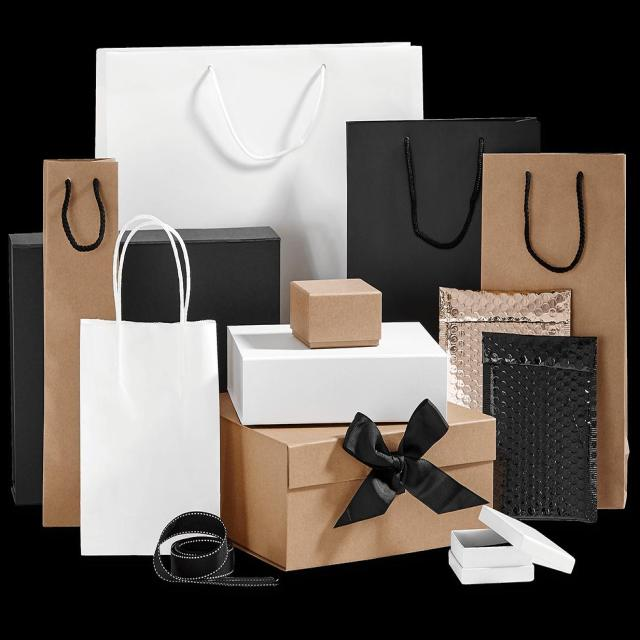Garbage: (448, 503, 578, 594)
Pathole: (223, 314, 451, 433), (287, 272, 384, 348)
